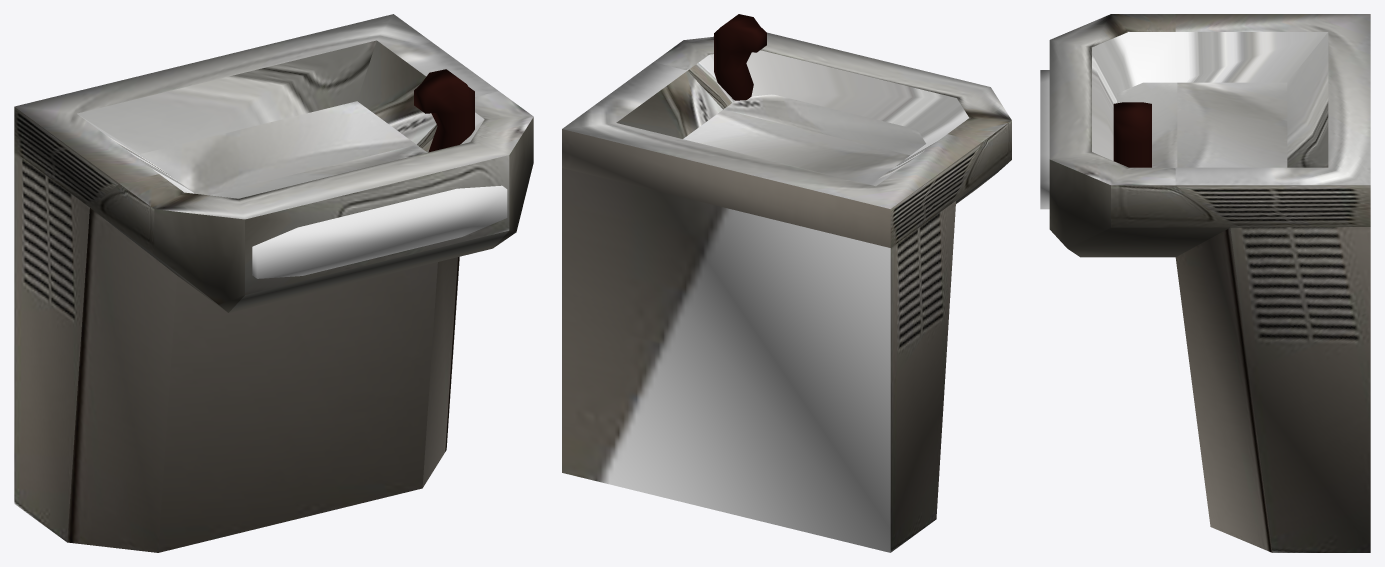
File: WaterFountain.fbx
3 renders of one model, left to right at view 1: azimuth 30°, elevation 25°; view 2: azimuth 150°, elevation 25°; view 3: azimuth 270°, elevation 25°, orthographic. The views are drawn at different scales.
Visible parts, largest first — view 1: Cube.003, Cube.025, Cube.026; view 2: Cube.003, Cube.026; view 3: Cube.003, Cube.026, Cube.025.
Part boxes in pixels (left/top/right/bottom): Cube.003: left=14, top=14, right=533, bottom=552; Cube.025: left=252, top=185, right=507, bottom=278; Cube.026: left=414, top=69, right=474, bottom=152; Cube.003: left=562, top=32, right=1011, bottom=552; Cube.026: left=714, top=14, right=766, bottom=100; Cube.003: left=1049, top=14, right=1370, bottom=552; Cube.026: left=1113, top=102, right=1151, bottom=167; Cube.025: left=1040, top=70, right=1049, bottom=209.
Bounding box in the file's own units: 53.97 × 60.48 × 43.96.
